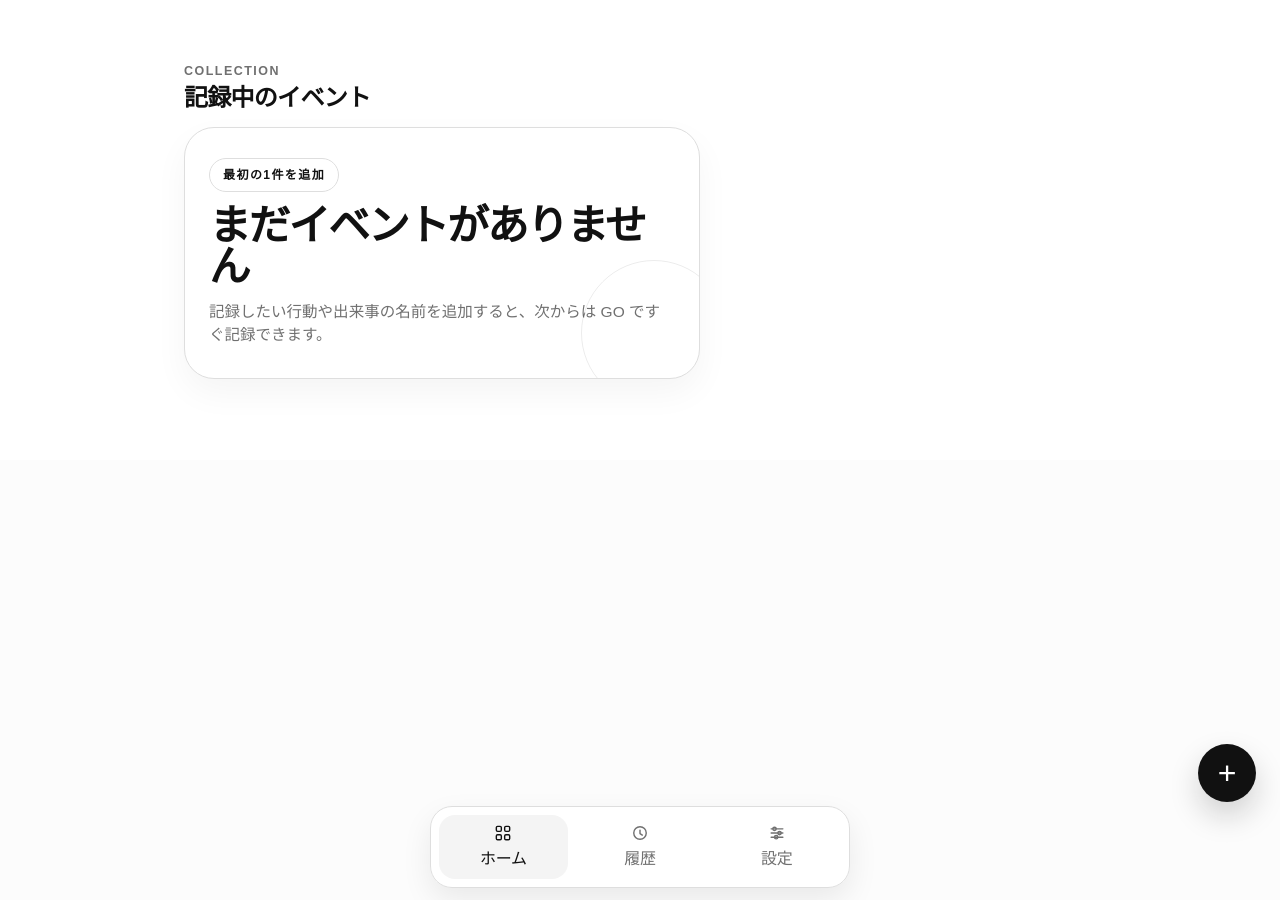
Test case: App › shows about information in settings
Click the button "設定".
click(777, 847)  # box 712,815 -> 841,879
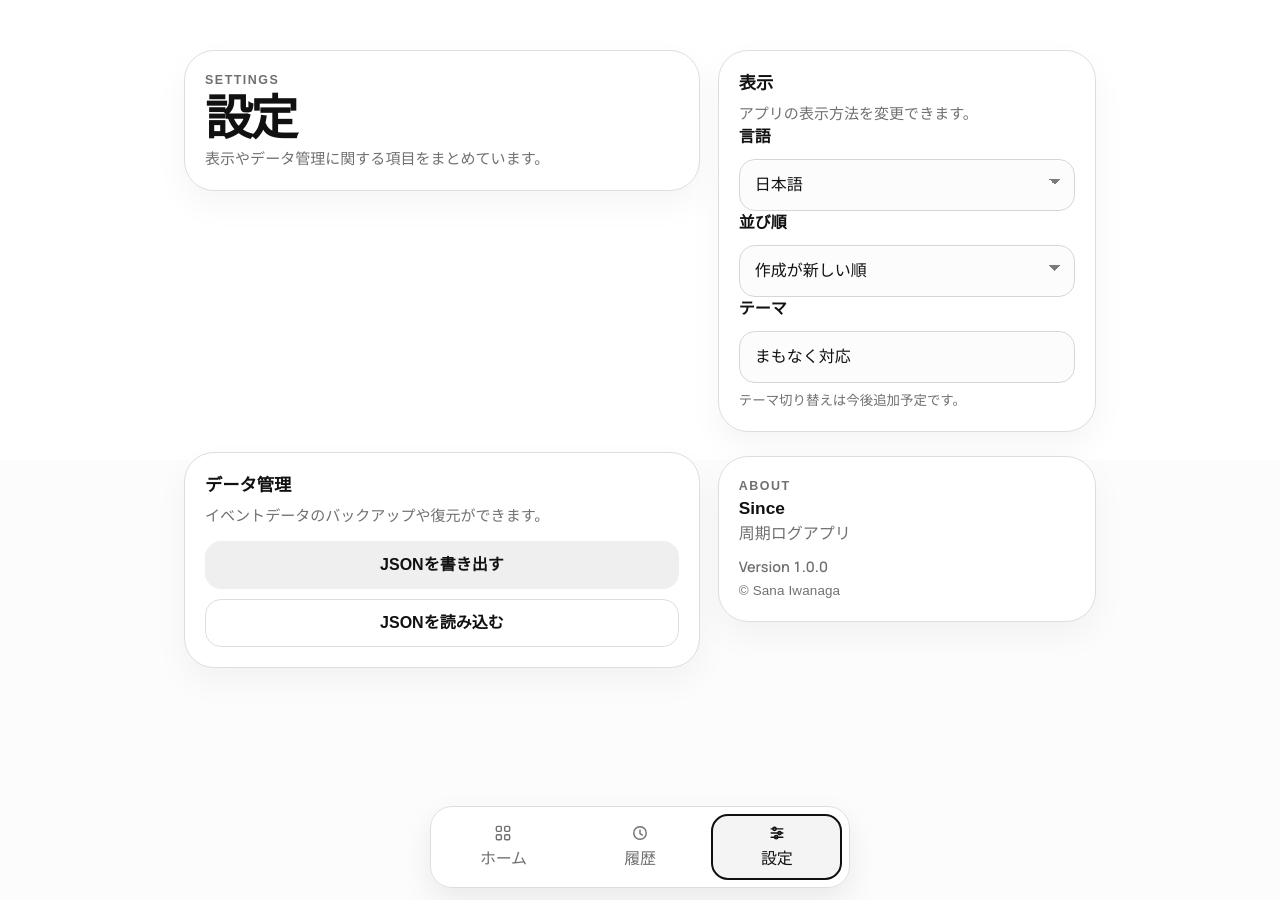
Check: the heading "表示" is shown, box 739,73 -> 773,93
Check: the text "アプリの表示方法を変更できます。" is shown, box 739,105 -> 978,122
Check: the field labelled "テーマ" holds "まもなく対応", box 739,332 -> 1075,384
